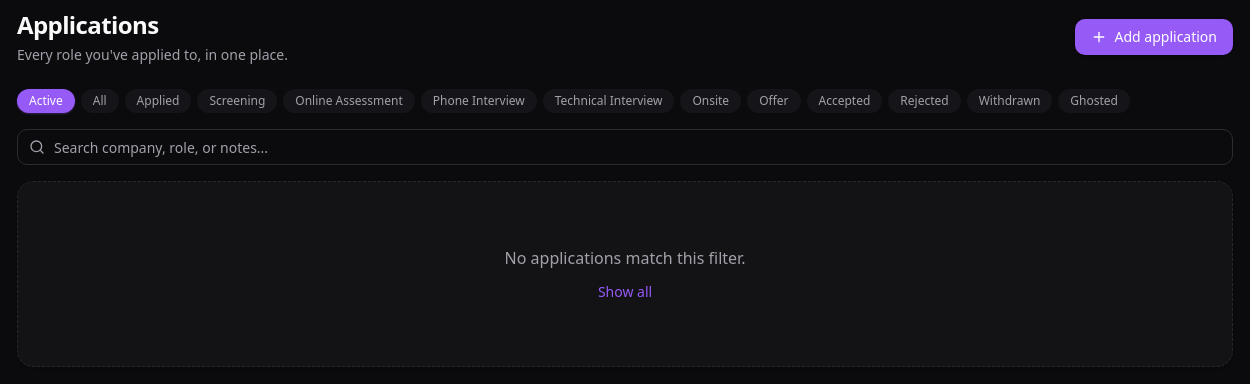
Test: Applications › shows a filter-empty state when apps exist but none match, and "Show all" reveals them
Expected: the text "No applications match this filter." is shown, x1=505 y1=246 x2=745 y2=270
Click the button "Show all": {"x": 625, "y": 292} x1=598 y1=282 x2=652 y2=302
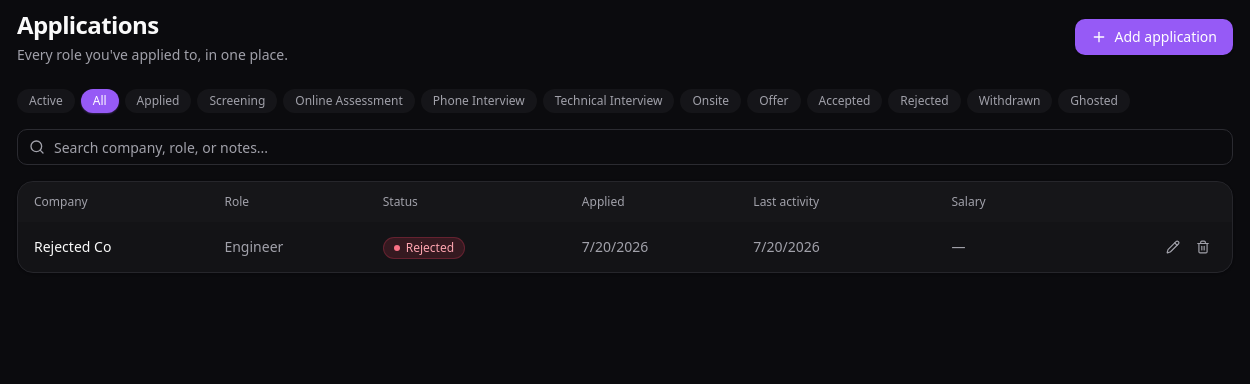
Result: the text "Rejected Co" is shown at x1=34 y1=237 x2=111 y2=256
